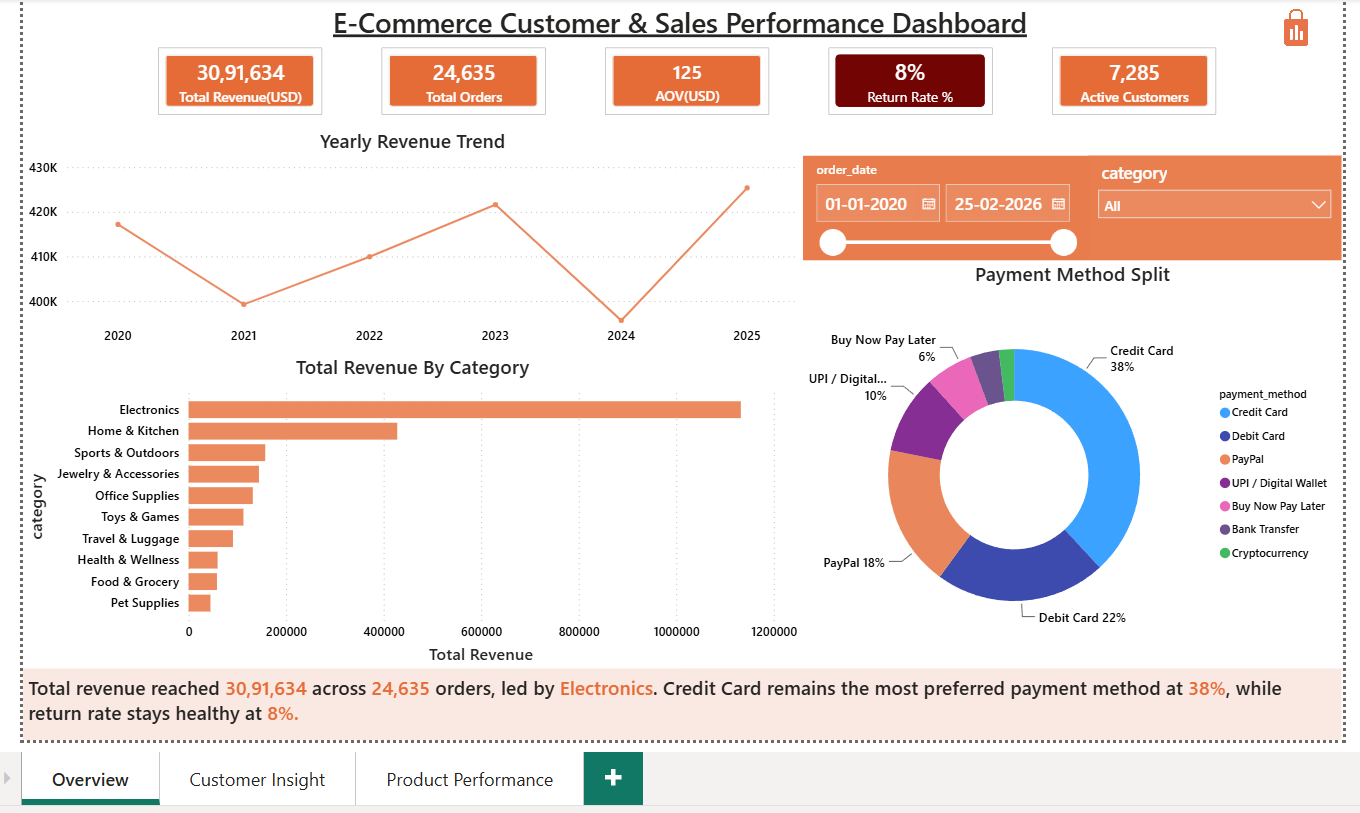

This screenshot's page, from the dashboard's own definition file:
{"tool":"powerbi","page":{"name":"Overview","canvas":[1280,720],"ordinal":0},"visuals":[{"type":"cardVisual","fields":{"Data":["customers.Active Customers"]},"box":[997.9,47.5,159,65],"z":0},{"type":"cardVisual","fields":{"Data":["customers.Total Orders"]},"box":[348.2,47.5,159,65],"z":1000},{"type":"cardVisual","fields":{"Data":["customers.Total Revenue"]},"box":[131.6,47.5,159,65],"z":2000},{"type":"textbox","box":[295.7,0,695.7,47.1],"z":3000},{"type":"cardVisual","fields":{"Data":["customers.AOV"]},"box":[564.7,47.5,159,65],"z":4000},{"type":"image","box":[1196.6,0,84.2,69.6],"z":5000},{"type":"slicer","fields":{"Values":["orders.category"]},"box":[1033.1,152.2,246.1,102],"z":6000},{"type":"slicer","fields":{"Values":["orders.order_date"]},"box":[756.2,152.2,276.9,102],"z":7000},{"type":"lineChart","title":"Yearly Revenue Trend","fields":{"Y":["Sum(monthly_revenue.revenue_usd)"],"Category":["monthly_revenue.Month_Year.Variation.Date Hierarchy.Year"]},"box":[0,124.7,756.2,220.2],"z":8000},{"type":"donutChart","title":"Payment Method Split","fields":{"Category":["orders.payment_method"],"Y":["customers.Total Orders"]},"box":[756.2,254.2,523,396.7],"z":9000},{"type":"barChart","title":"Total Revenue By Category","fields":{"Y":["customers.Total Revenue"],"Category":["orders.category"]},"box":[0,344.9,756.2,306],"z":10000},{"type":"cardVisual","fields":{"Data":["customers.Return Rate %"]},"box":[781.3,47.5,159,65],"z":11000},{"type":"textbox","box":[0,650.9,1279.2,69.6],"z":11001}]}

Visuals, with their boxes on the page's 1280x720 design canvas (x1, y1, x2, y2). These are canvas units, not pixel positions in the 1360x813 screenshot, which may show the page scaled, cropped or inside an application window:
cardVisual - customers.Active Customers: 998 48 1157 112
cardVisual - customers.Total Orders: 348 48 507 112
cardVisual - customers.Total Revenue: 132 48 291 112
textbox: 296 0 991 47
cardVisual - customers.AOV: 565 48 724 112
image: 1197 0 1281 70
slicer - orders.category: 1033 152 1279 254
slicer - orders.order_date: 756 152 1033 254
"Yearly Revenue Trend" lineChart: 0 125 756 345
"Payment Method Split" donutChart: 756 254 1279 651
"Total Revenue By Category" barChart: 0 345 756 651
cardVisual - customers.Return Rate %: 781 48 940 112
textbox: 0 651 1279 720
